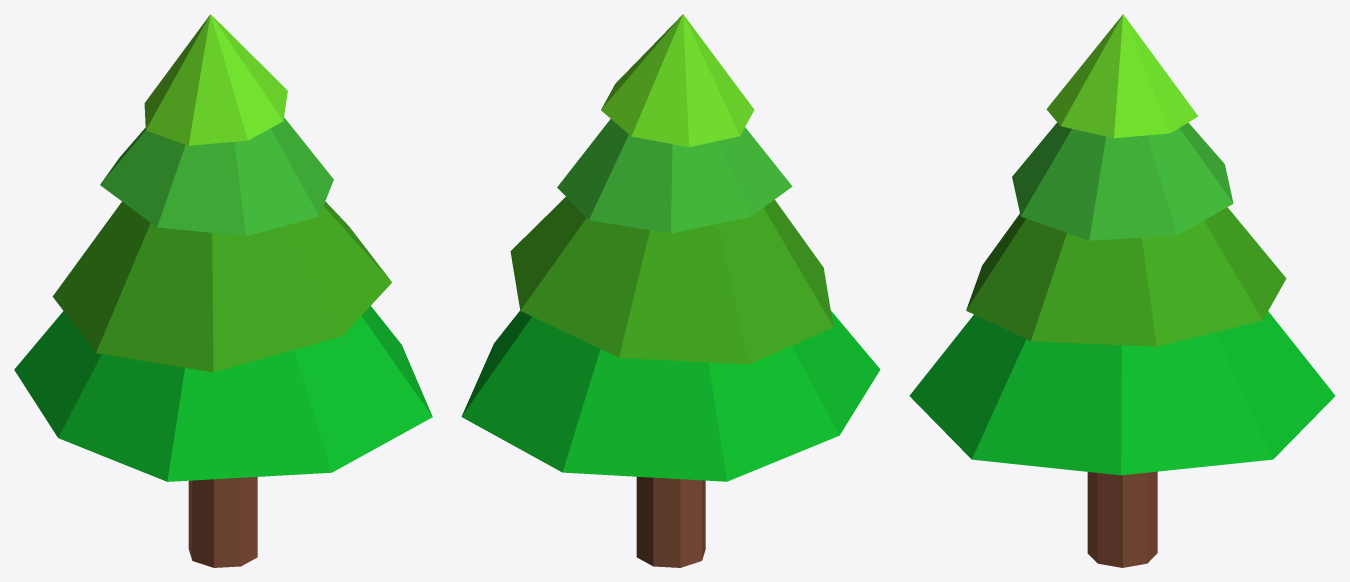
The model's file is Tree1.fbx.
3 renders of one model, left to right at view 1: azimuth 30°, elevation 25°; view 2: azimuth 150°, elevation 25°; view 3: azimuth 270°, elevation 25°, orthographic.
Visible parts, largest first — view 1: Tree1.optimised; view 2: Tree1.optimised; view 3: Tree1.optimised.
Part boxes in pixels (x1,y1,x2,y2): Tree1.optimised: [14, 14, 432, 567]; Tree1.optimised: [461, 14, 880, 567]; Tree1.optimised: [909, 14, 1335, 567].
Bounding box in the file's own units: 4.5 × 6.76 × 4.9.
1 material, 1 textured.
